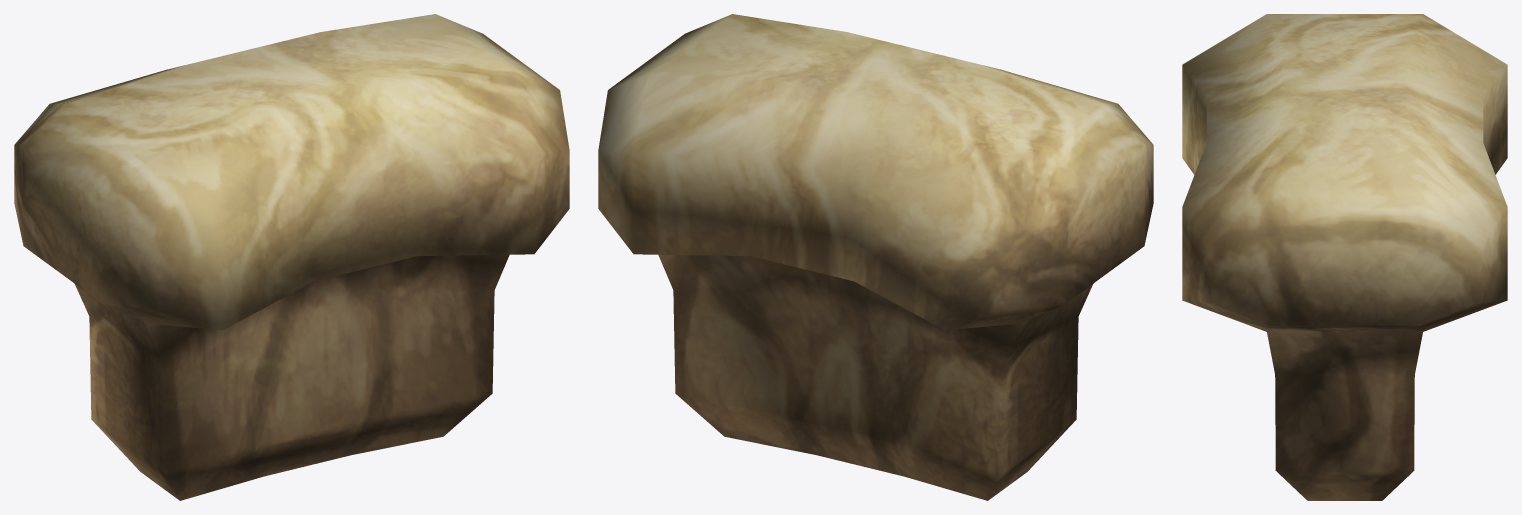
The model's file is vertebrae.FBX.
3 views of the same model, side by side, from view 1: azimuth 30°, elevation 25°; view 2: azimuth 150°, elevation 25°; view 3: azimuth 270°, elevation 25° (orthographic). The views are drawn at different scales.
Parts seen in each view (by area): view 1: Object001; view 2: Object001; view 3: Object001.
Part boxes in pixels (bbox=[...]): Object001: bbox=[14, 14, 569, 500]; Object001: bbox=[598, 14, 1153, 500]; Object001: bbox=[1182, 14, 1507, 500].
Size of the model in its own units: 1.48 by 1.18 by 0.9696.
